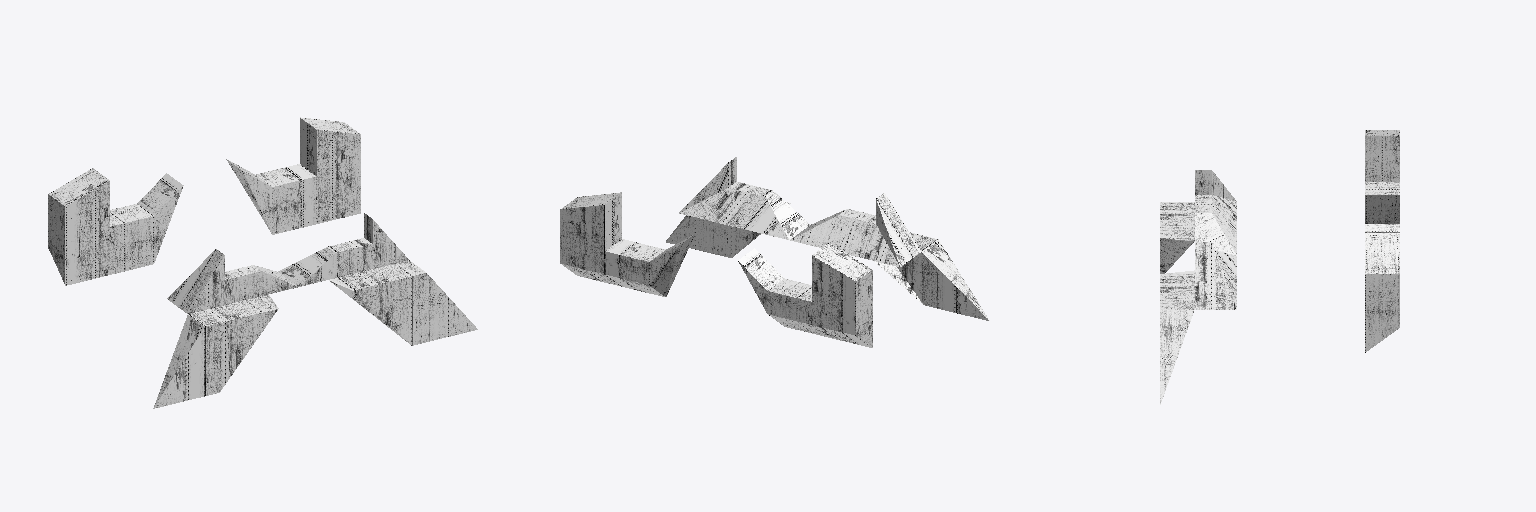
3 renders of one model, left to right at view 1: azimuth 30°, elevation 25°; view 2: azimuth 150°, elevation 25°; view 3: azimuth 270°, elevation 25°, orthographic.
Parts seen in each view (by area): view 1: Mesh3 Model, Mesh2 Model, Mesh1 Model; view 2: Mesh3 Model, Mesh2 Model, Mesh1 Model; view 3: Mesh3 Model, Mesh1 Model, Mesh2 Model.
Part boxes in pixels (x1,y1,x2,y2): Mesh3 Model: (153, 213, 477, 408); Mesh2 Model: (48, 168, 183, 285); Mesh1 Model: (226, 117, 360, 234); Mesh3 Model: (666, 157, 989, 320); Mesh2 Model: (738, 243, 872, 347); Mesh1 Model: (560, 192, 694, 296); Mesh3 Model: (1160, 170, 1236, 404); Mesh1 Model: (1365, 224, 1399, 352); Mesh2 Model: (1365, 130, 1399, 223).
Bounding box in the file's own units: 2.2 × 0.9 × 1.4.
Materials: 1 (1 with a texture image).